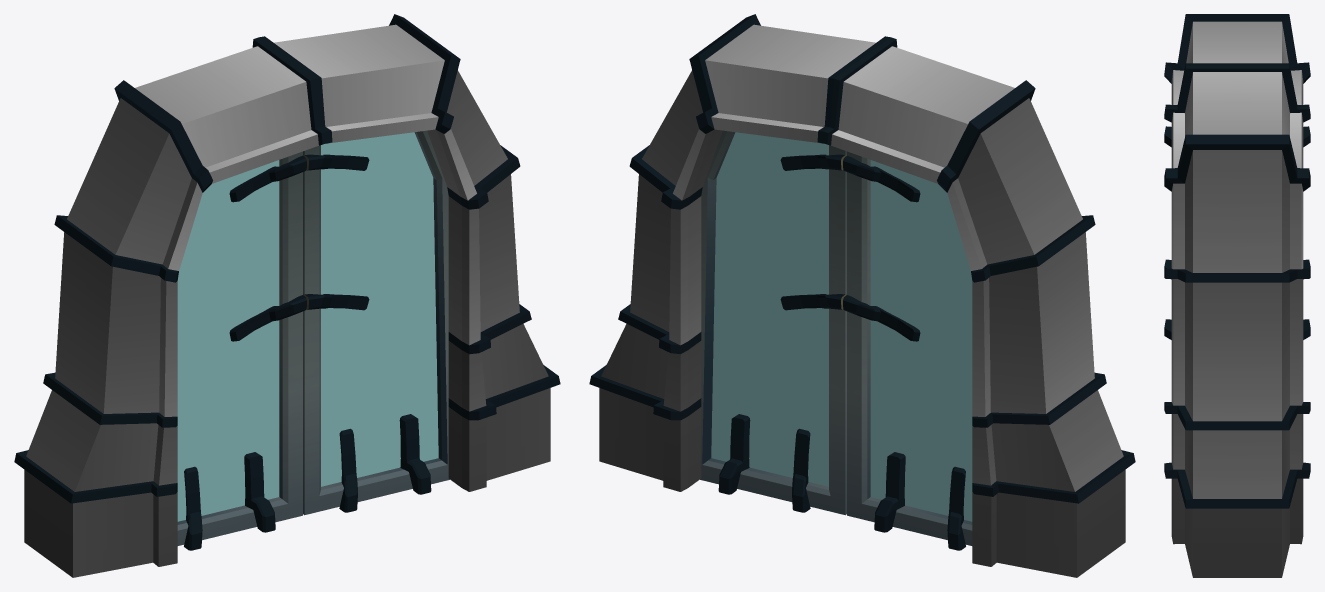
File: door-Present.fbx
The picture shows the model from 3 angles, left to right: view 1: azimuth 30°, elevation 25°; view 2: azimuth 150°, elevation 25°; view 3: azimuth 270°, elevation 25°; orthographic projection. The views are drawn at different scales.
Visible parts, largest first — view 1: Door Frame, Door.001; view 2: Door Frame, Door.001; view 3: Door Frame.
Boxes of the visible parts, bbox=[...] form: Door Frame: bbox=[14, 14, 560, 577]; Door.001: bbox=[177, 130, 449, 550]; Door Frame: bbox=[589, 14, 1135, 577]; Door.001: bbox=[700, 130, 972, 550]; Door Frame: bbox=[1164, 14, 1310, 577].
Bounding box in the file's own units: 299 × 260 × 84.52.
